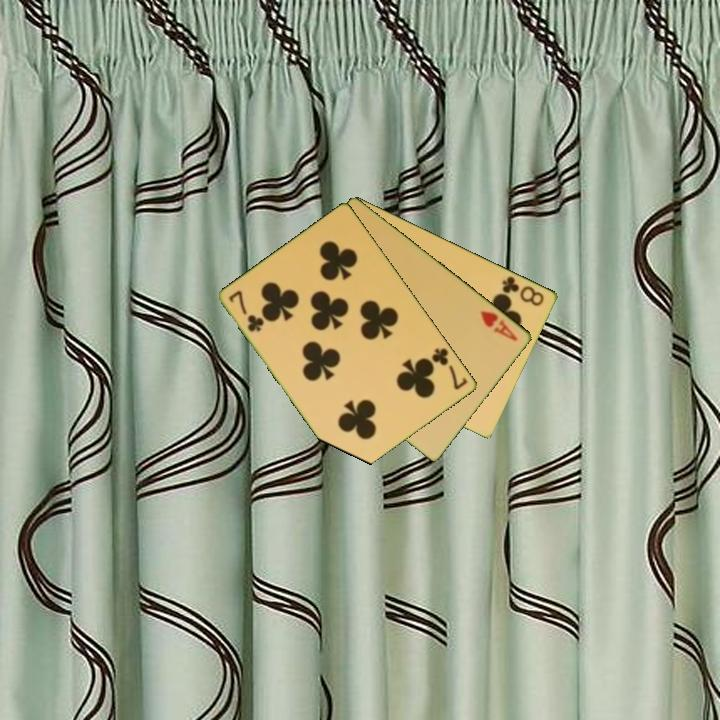7c: (428, 344, 470, 393), (225, 287, 267, 335)
8c: (499, 272, 547, 309)
Ah: (477, 307, 521, 344)
